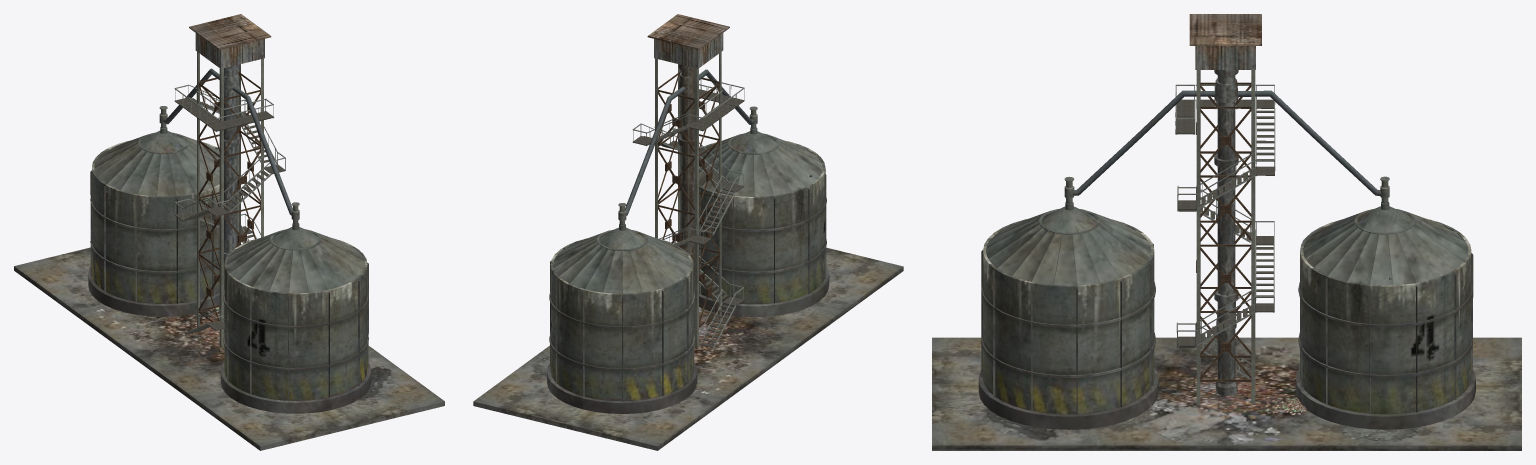
File: silos.glb
3 renders of one model, left to right at view 1: azimuth 30°, elevation 25°; view 2: azimuth 150°, elevation 25°; view 3: azimuth 270°, elevation 25°, orthographic. The views are drawn at different scales.
Visible parts, largest first — view 1: m; view 2: m; view 3: m.
Boxes of the visible parts, x1,y1,x2,y2 form: m: [14, 14, 444, 450]; m: [473, 14, 903, 450]; m: [932, 14, 1521, 450].
Bounding box in the file's own units: 8.8 × 14 × 20.34.
5 materials, 5 textured.
